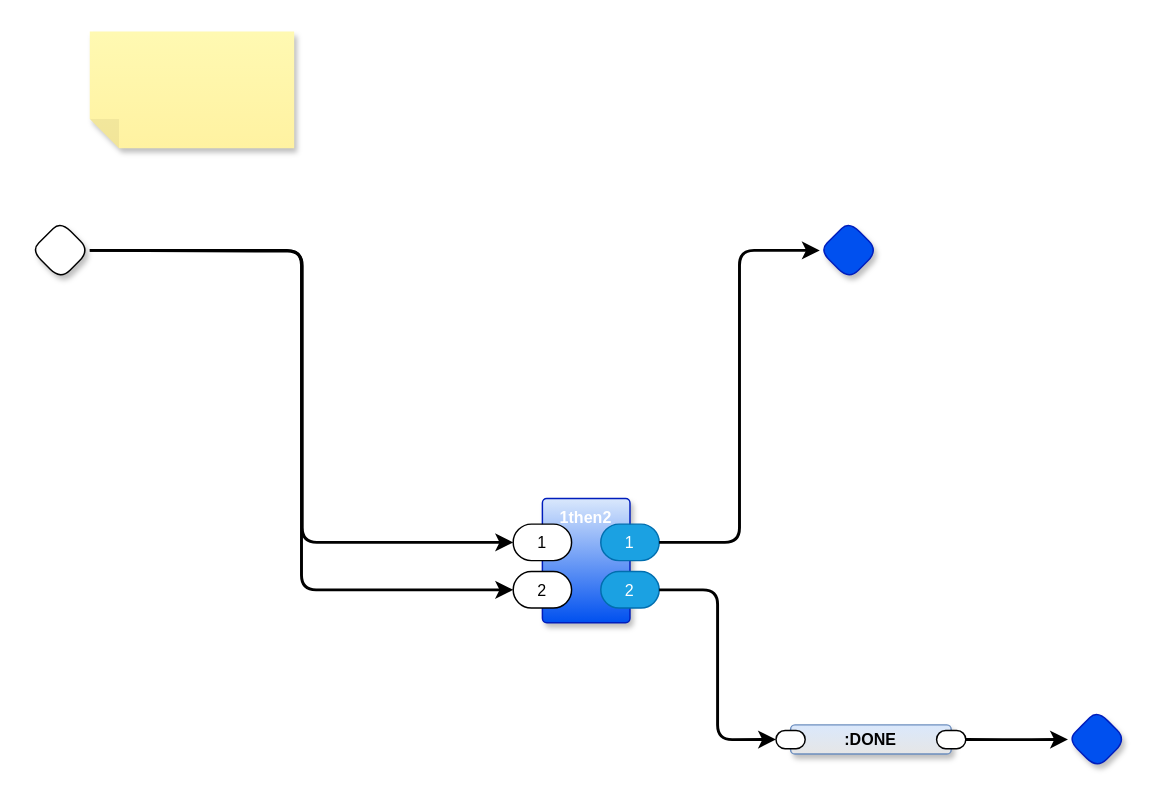
This 1161x804 diagram has some shape labels left out. Each missing label, with the centre of its shape:
fini: (1098,741)
this is the list of files required to self-compile kernel0d.py: (192,91)
